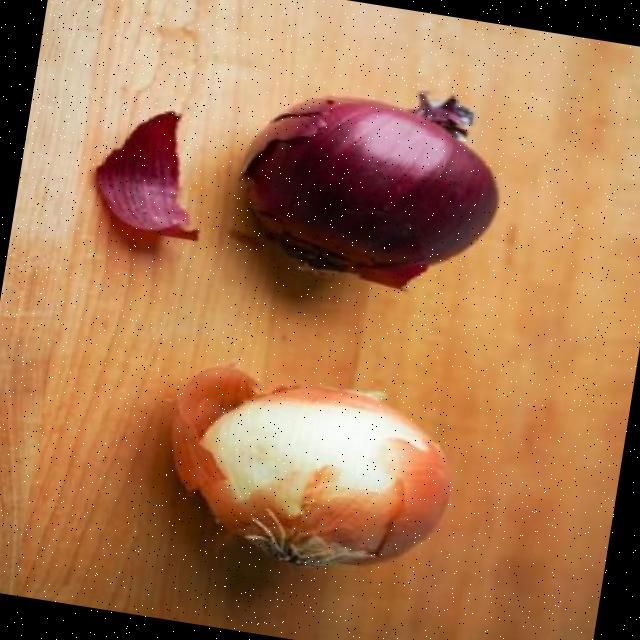Onion: (170, 367, 450, 569), (243, 92, 498, 289)
